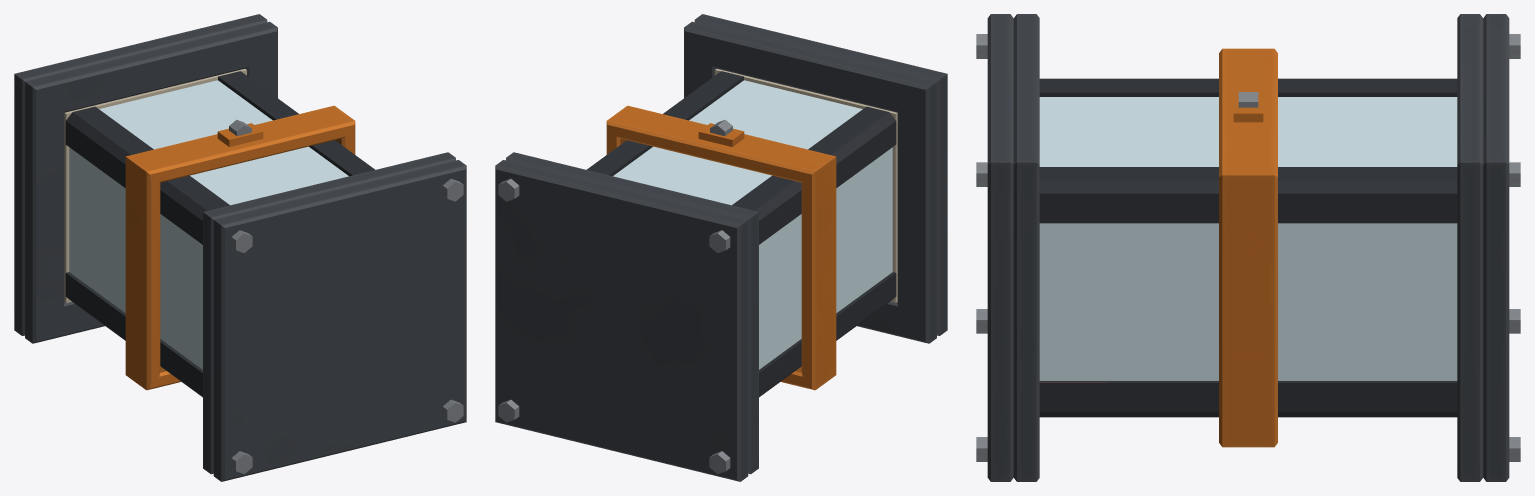
Rendered from item.obj.
The picture shows the model from 3 angles, left to right: view 1: azimuth 30°, elevation 25°; view 2: azimuth 150°, elevation 25°; view 3: azimuth 270°, elevation 25°; orthographic projection. The views are drawn at different scales.
Visible parts, largest first — view 1: item_blind1, item_panes, item_flange-1, item_band, item_rails, item_blind-1, item_flange1, item_flange-1_lining, item_flange1_nuts, item_band_lug; view 2: item_blind-1, item_panes, item_flange1, item_band, item_rails, item_blind1, item_flange-1, item_flange1_lining, item_flange-1_nuts, item_band_lug; view 3: item_panes, item_rails, item_band, item_blind-1, item_flange-1, item_blind1, item_flange1, item_flange-1_nuts, item_flange1_nuts, item_band_lug.
Boxes of the visible parts, x1,y1,x2,y2 form: item_blind1: (213,160,466,481); item_panes: (69,80,348,369); item_flange-1: (25,21,277,343); item_band: (125,105,355,390); item_rails: (65,71,375,397); item_blind-1: (14,14,267,335); item_flange1: (203,152,455,474); item_flange-1_lining: (64,69,246,302); item_flange1_nuts: (231,178,463,474); item_band_lug: (217,123,263,146); item_blind-1: (495,160,748,481); item_panes: (613,80,892,369); item_flange1: (684,21,936,343); item_band: (606,105,836,390); item_rails: (586,71,896,397); item_blind1: (694,14,947,335); item_flange-1: (506,152,758,474); item_flange1_lining: (715,69,897,302); item_flange-1_nuts: (498,178,730,474); item_band_lug: (698,123,744,146); item_panes: (1039,97,1457,380); item_rails: (1039,78,1457,417); item_band: (1219,48,1277,447); item_blind-1: (1483,14,1509,481); item_flange-1: (1457,14,1483,481); item_blind1: (987,14,1013,481); item_flange1: (1013,14,1039,481); item_flange-1_nuts: (1509,34,1520,461); item_flange1_nuts: (976,34,987,461); item_band_lug: (1233,93,1263,122).
Size of the model in its own units: 0.675 by 0.675 by 1.04.
